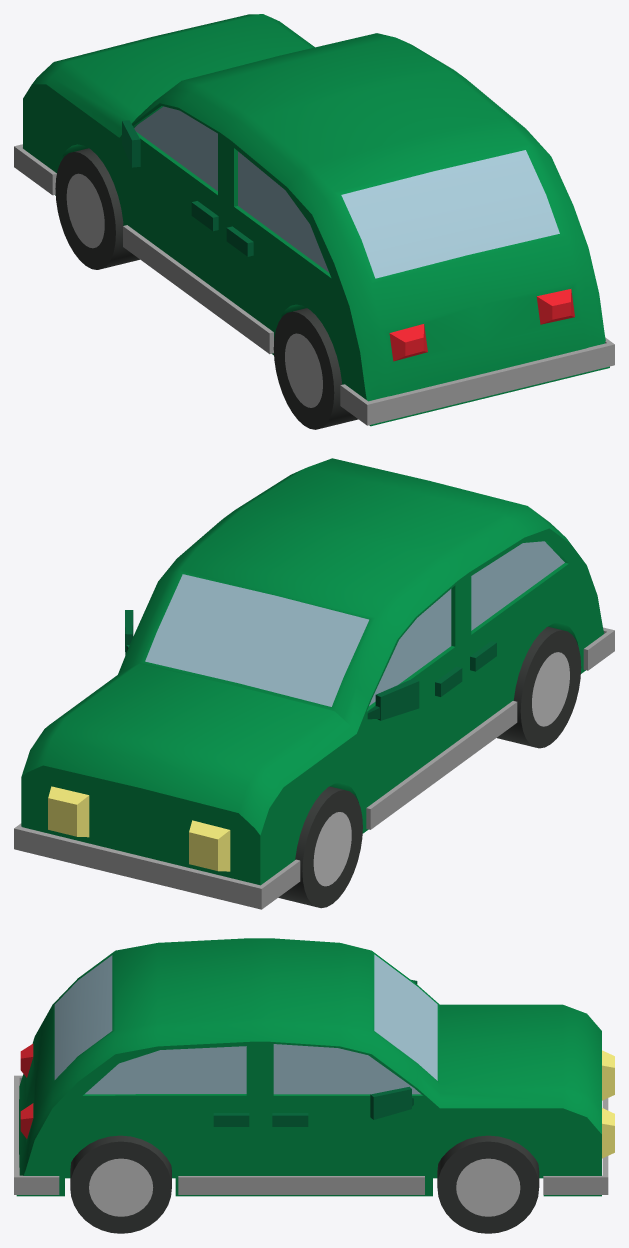
File: Yesil_araba.fbx
3 views of the same model, one above another, from view 1: azimuth 30°, elevation 25°; view 2: azimuth 150°, elevation 25°; view 3: azimuth 270°, elevation 25° (orthographic). The views are drawn at different scales.
Visible parts, largest first — view 1: yesil_govde, yesil_arka_cam, yesil_detay, yesil_cam, Cylinder.034, Cylinder.032, yesil_arka_farlar, Cylinder.033, Cylinder.035, yesil_kapi_kollari, yesil_yan_aynalar; view 2: yesil_govde, yesil_on_cam, yesil_detay, yesil_cam, Cylinder.034, Cylinder.032, yesil_on_farlar, Cylinder.033, Cylinder.035, yesil_yan_aynalar, yesil_kapi_kollari; view 3: yesil_govde, yesil_cam, yesil_detay, Cylinder.036, Cylinder.038, yesil_on_cam, yesil_arka_cam, Cylinder.037, Cylinder.039, yesil_on_farlar, yesil_yan_aynalar, yesil_kapi_kollari (+1 smaller).
Boxes of the visible parts, x1,y1,x2,y2 form: yesil_govde: (23,14,609,426); yesil_arka_cam: (341,150,559,278); yesil_detay: (14,144,614,425); yesil_cam: (134,106,328,272); Cylinder.034: (273,308,358,429); Cylinder.032: (55,148,139,269); yesil_arka_farlar: (389,289,574,361); Cylinder.033: (66,173,104,248); Cylinder.035: (285,333,322,407); yesil_kapi_kollari: (191,201,253,256); yesil_yan_aynalar: (122,120,140,167); yesil_govde: (21,458,604,885); yesil_on_cam: (145,574,368,706); yesil_detay: (14,627,614,909); yesil_cam: (369,541,564,705); Cylinder.034: (497,626,581,748); Cylinder.032: (278,786,362,908); yesil_on_farlar: (48,786,230,871); Cylinder.033: (313,812,351,886); Cylinder.035: (532,652,569,726); yesil_yan_aynalar: (125,610,419,720); yesil_kapi_kollari: (435,641,496,696); yesil_govde: (16,938,601,1196); yesil_cam: (85,1044,420,1094); yesil_detay: (14,1075,608,1194); Cylinder.036: (437,1135,539,1233); Cylinder.038: (70,1135,171,1233); yesil_on_cam: (374,954,437,1080); yesil_arka_cam: (54,955,112,1079); Cylinder.037: (456,1158,520,1216); Cylinder.039: (89,1158,153,1216); yesil_on_farlar: (602,1050,614,1158); yesil_yan_aynalar: (370,980,417,1119); yesil_kapi_kollari: (213,1113,308,1126).
Size of the model in its own units: 101 by 80.07 by 211.
